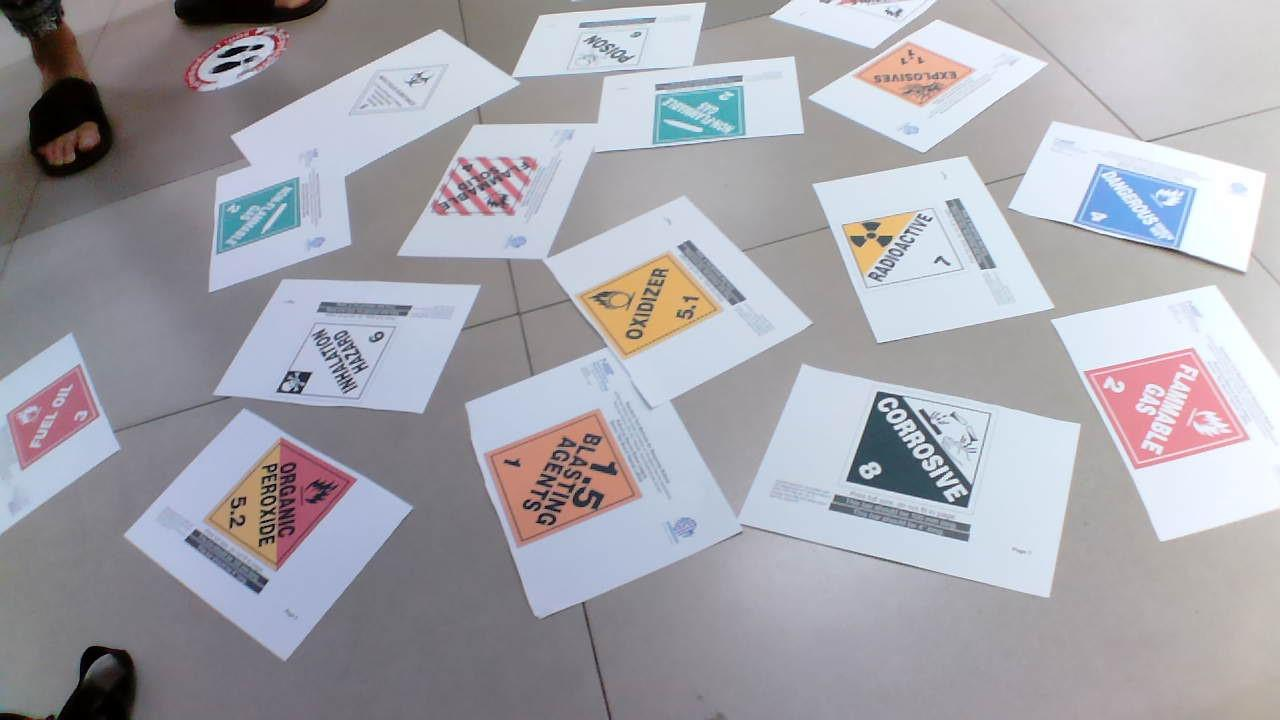corrosive: (846, 387, 996, 518)
explosive: (483, 409, 646, 548), (854, 40, 981, 109)
flammable: (13, 361, 106, 464)
flammable-solid: (427, 157, 550, 228)
infectious-substance: (348, 60, 458, 121)
non-flammable-gas: (198, 181, 310, 251), (654, 84, 747, 144)
organic-peroxide: (207, 439, 366, 565)
oxidizer: (577, 251, 724, 352)
poison: (278, 314, 401, 411), (571, 26, 654, 71)
radioactive: (833, 208, 969, 293)
